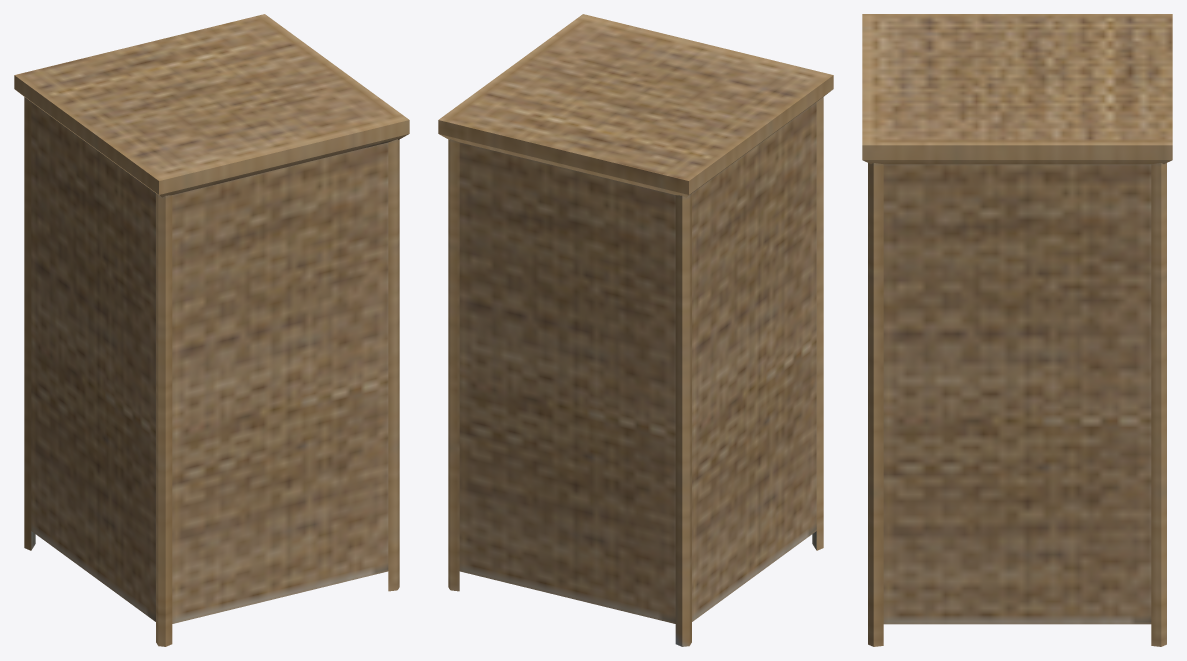
File: To_LaundryBasket.FBX
3 views of the same model, side by side, from view 1: azimuth 30°, elevation 25°; view 2: azimuth 150°, elevation 25°; view 3: azimuth 270°, elevation 25° (orthographic). The views are drawn at different scales.
Parts seen in each view (by area): view 1: To_LaundryBasket; view 2: To_LaundryBasket; view 3: To_LaundryBasket.
Boxes of the visible parts, box(x1,y1,x2,y2) form: To_LaundryBasket: box(14, 14, 409, 646); To_LaundryBasket: box(438, 14, 833, 646); To_LaundryBasket: box(862, 14, 1172, 646).
Size of the model in its own units: 36.29 by 65.05 by 36.32.
